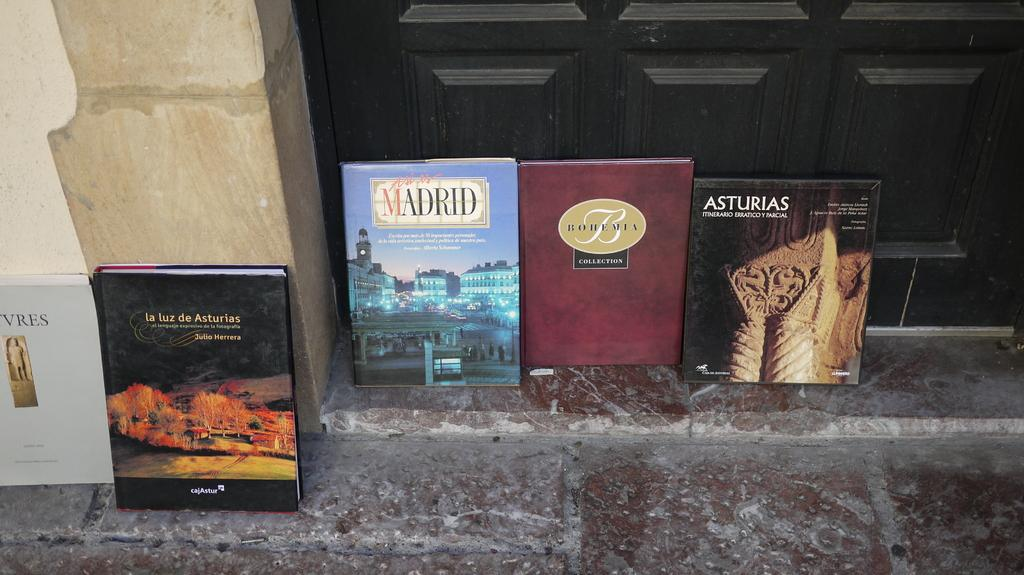Book: (89, 265, 301, 517), (676, 173, 877, 386), (339, 161, 519, 388), (519, 157, 692, 374), (0, 269, 110, 497)
